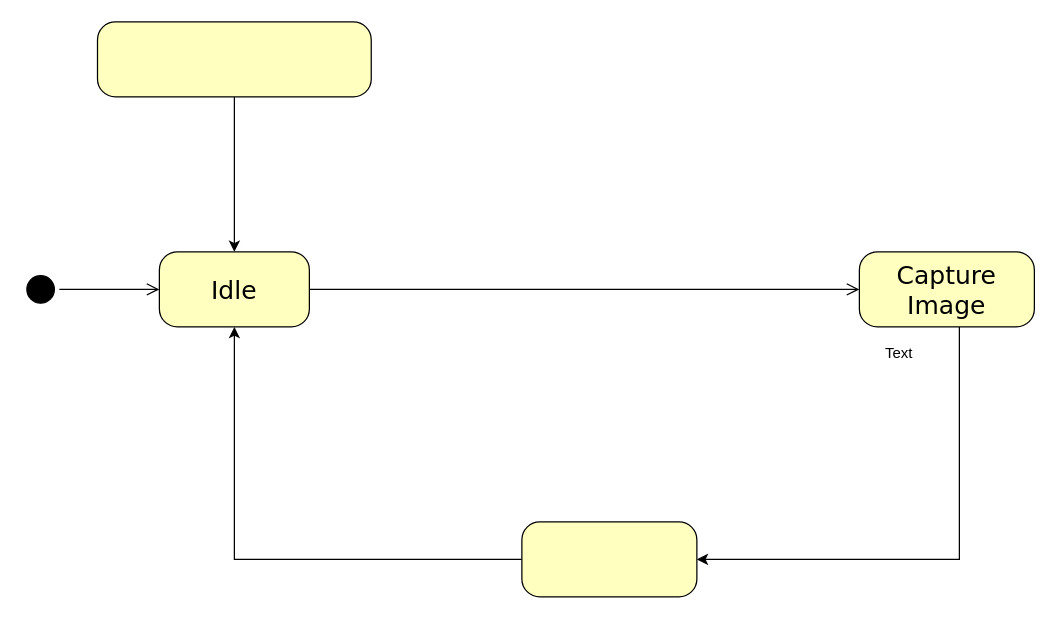
Image size: 1056x619. Some labels were removed from this diagram. Each missing label, with the centre of its shape:
Procimity sensor signal: (233,59)
send image to system: (609,559)
